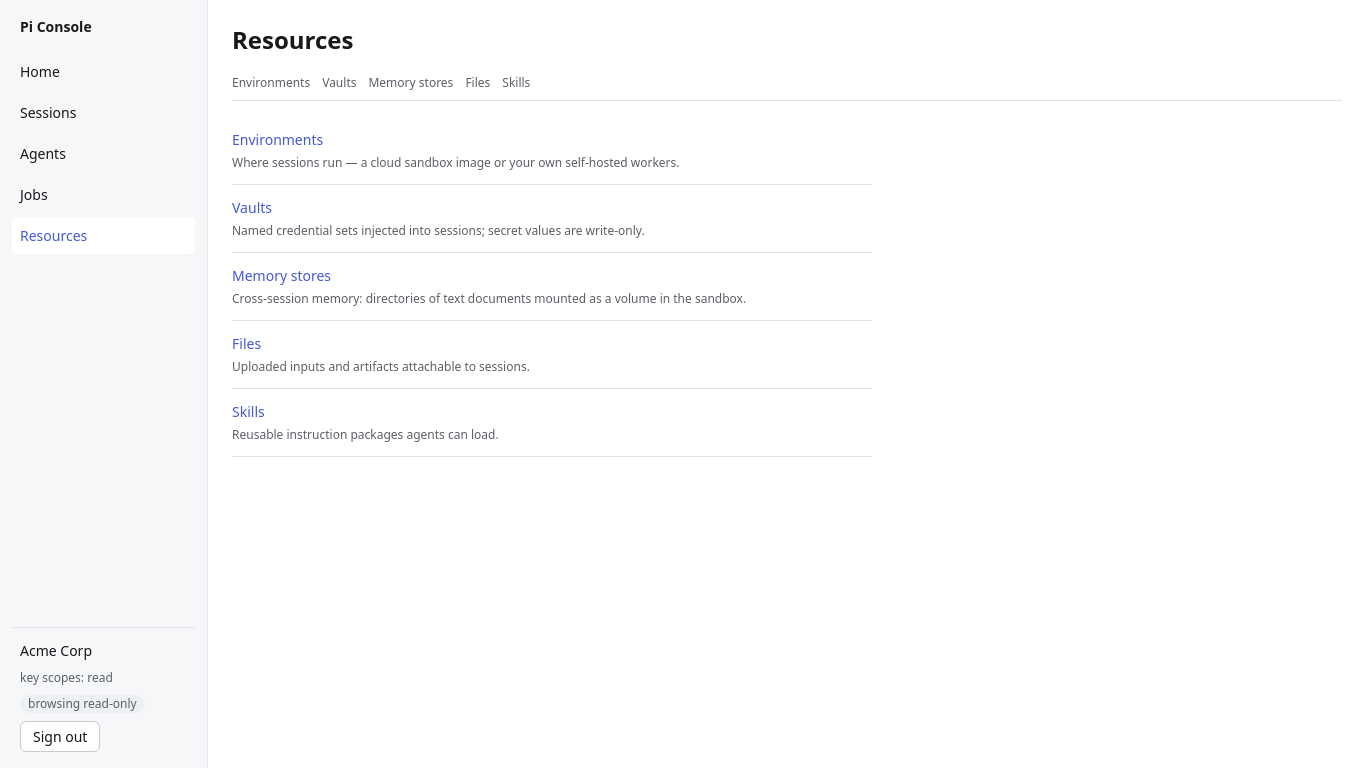
it: resources section layout (§7.1) › navigates into a family; the sub-navigation stays mounted
This screenshot has width=1366, height=768.
Click the 1st link "Memory stores".
click(411, 83)  # box [368,74,453,91]
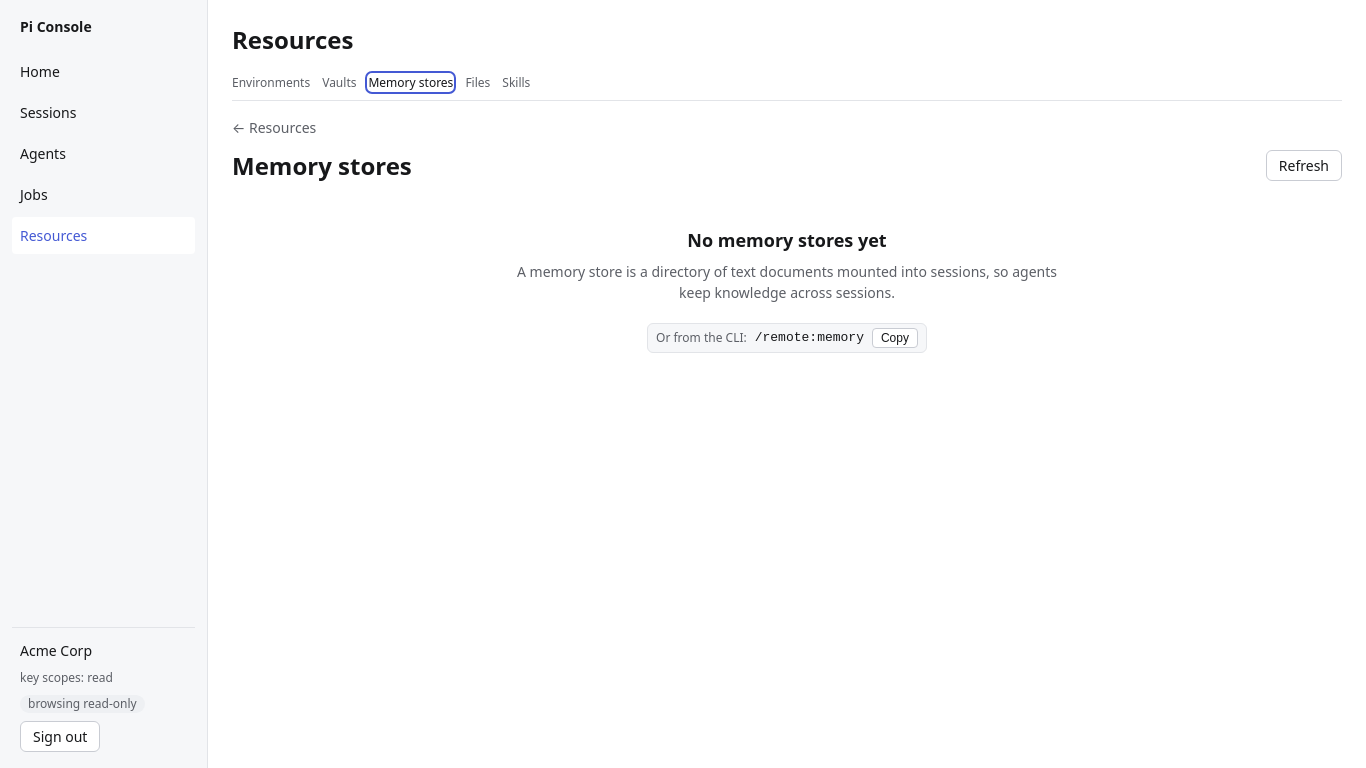
Expected: the navigation bar named "Resources sections" is shown, [232,71,1342,101]
Result: the heading "Memory stores" is shown at [232,150,412,181]
